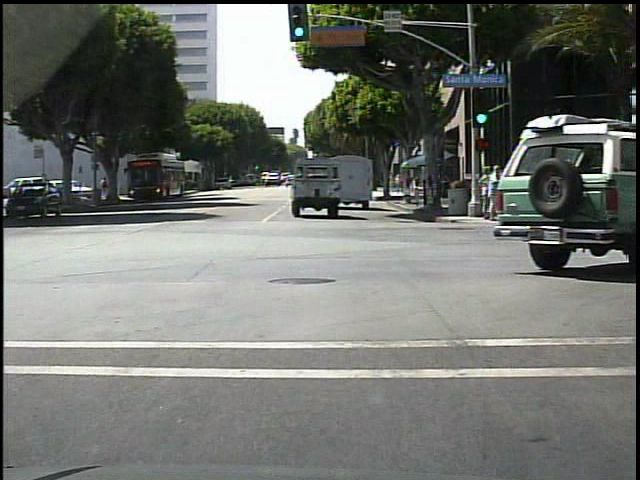person: (556, 157, 579, 228), (596, 163, 615, 225), (532, 153, 550, 214), (582, 166, 601, 223), (485, 163, 504, 220), (513, 160, 532, 216), (522, 164, 538, 219), (479, 164, 491, 217), (105, 175, 116, 200), (99, 175, 108, 199), (394, 170, 402, 194)
